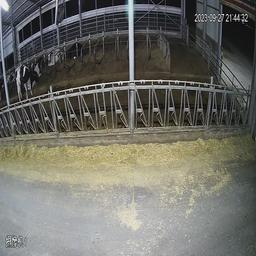cow: (13, 61, 34, 103), (42, 39, 62, 65), (66, 37, 83, 64)
